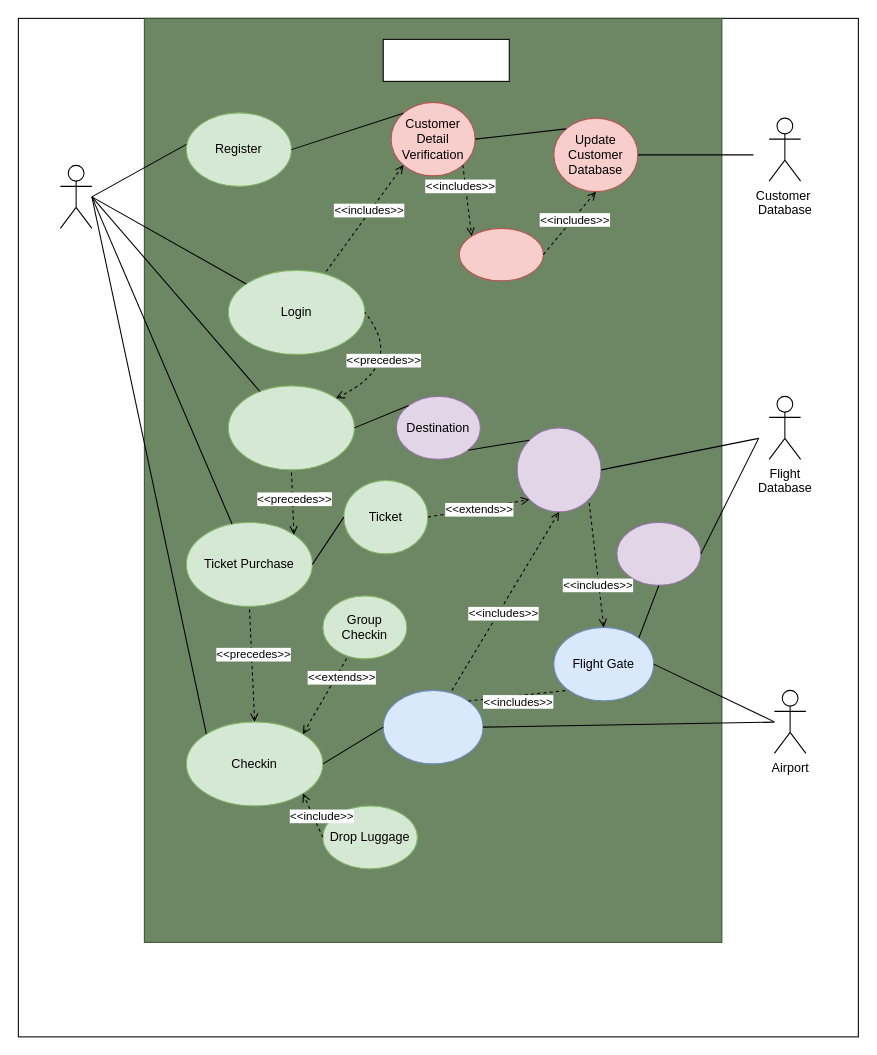
The diagram is 877 pixels wide and 1055 high, and some of its shapes have lost their labels. Here are the shapes that lost their labels. From the top down, the box of each, then its label:
(382, 38, 509, 81): Customer Flight Management
(59, 164, 92, 228): Customer
(458, 227, 543, 281): Uniqueness verification
(227, 385, 354, 470): Flight Search
(516, 427, 601, 512): Flight
(616, 521, 701, 585): Airline
(382, 689, 483, 764): Access Boardig pass
